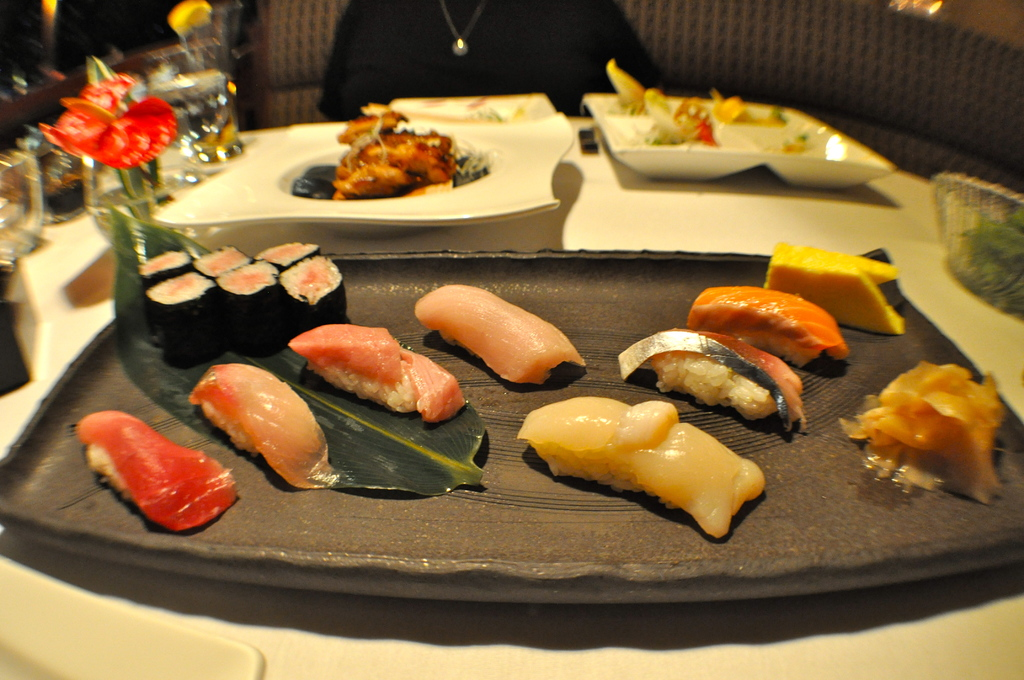sushi: (522, 396, 766, 542), (141, 240, 346, 365), (76, 407, 237, 531), (620, 331, 811, 432), (188, 365, 336, 491), (285, 321, 467, 414), (413, 289, 588, 382), (687, 282, 851, 370)
